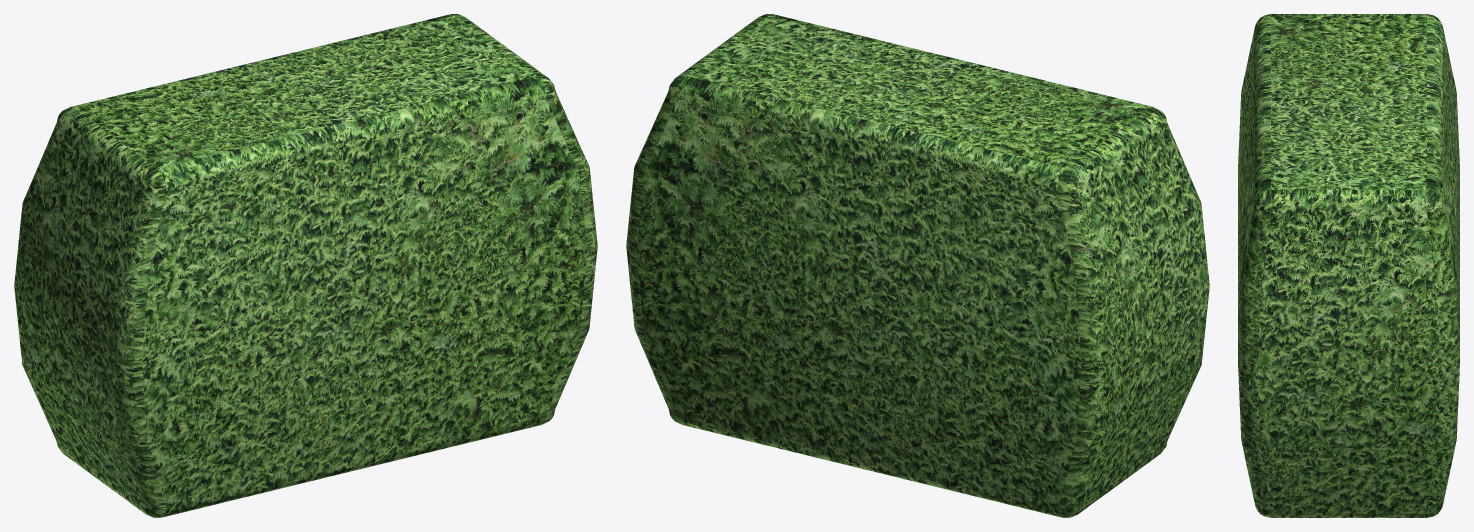
The model's file is grm_obli.fbx.
3 renders of one model, left to right at view 1: azimuth 30°, elevation 25°; view 2: azimuth 150°, elevation 25°; view 3: azimuth 270°, elevation 25°, orthographic. The views are drawn at different scales.
Parts seen in each view (by area): view 1: grm_obli; view 2: grm_obli; view 3: grm_obli.
Part boxes in pixels (x1=…): grm_obli: x1=14, y1=14, x2=597, y2=517; grm_obli: x1=626, y1=14, x2=1209, y2=517; grm_obli: x1=1238, y1=14, x2=1459, y2=517.
Size of the model in its own units: 185 by 436 by 301.
Materials: 1 (1 with a texture image).
